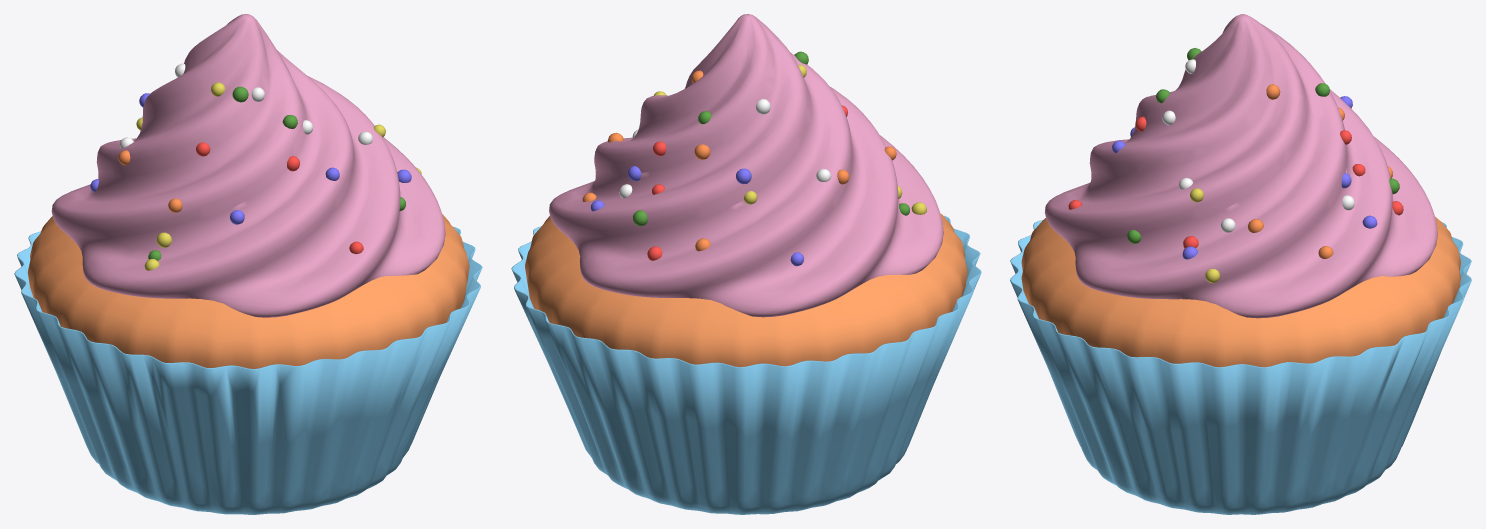
Rendered from CUPCAKE.fbx.
3 views of the same model, side by side, from view 1: azimuth 30°, elevation 25°; view 2: azimuth 150°, elevation 25°; view 3: azimuth 270°, elevation 25° (orthographic).
Parts seen in each view (by area): view 1: cupcake_v0.003; view 2: cupcake_v0.003; view 3: cupcake_v0.003.
Part boxes in pixels (bbox=[...]): cupcake_v0.003: bbox=[14, 14, 482, 514]; cupcake_v0.003: bbox=[511, 14, 981, 514]; cupcake_v0.003: bbox=[1010, 14, 1471, 514].
Bounding box in the file's own units: 65.3 × 69.48 × 65.33.
